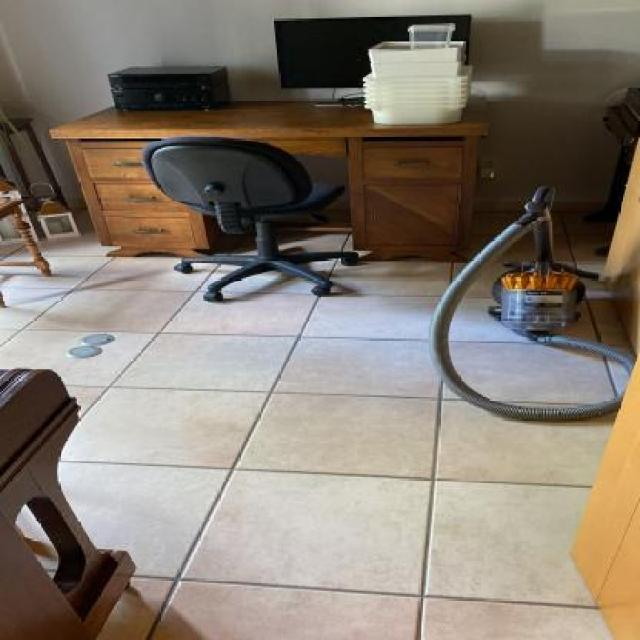floor: (0, 240, 625, 640), (453, 223, 625, 410), (566, 282, 640, 358), (550, 207, 609, 273), (470, 206, 521, 252)
